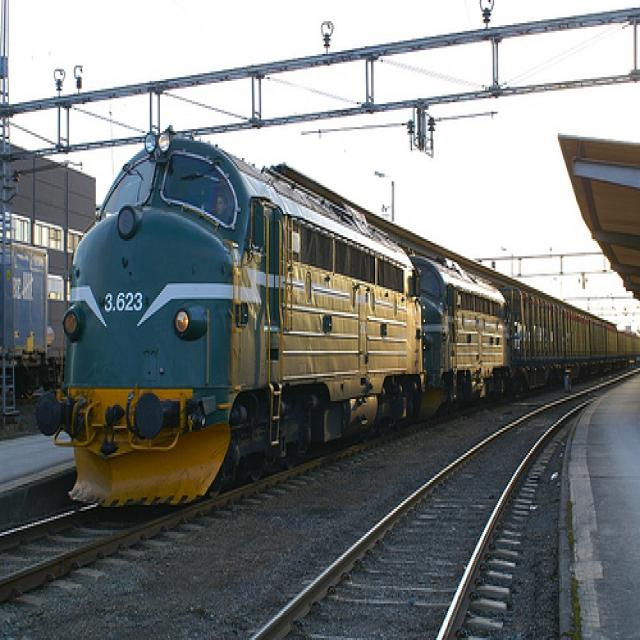locomotive: (48, 111, 428, 520), (409, 242, 514, 422)
